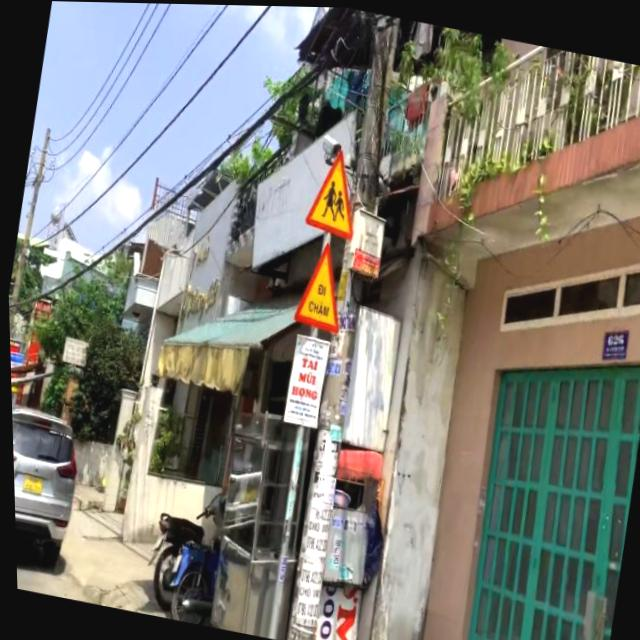Di cham: (287, 234, 353, 336)
Tre em: (299, 138, 367, 242)
